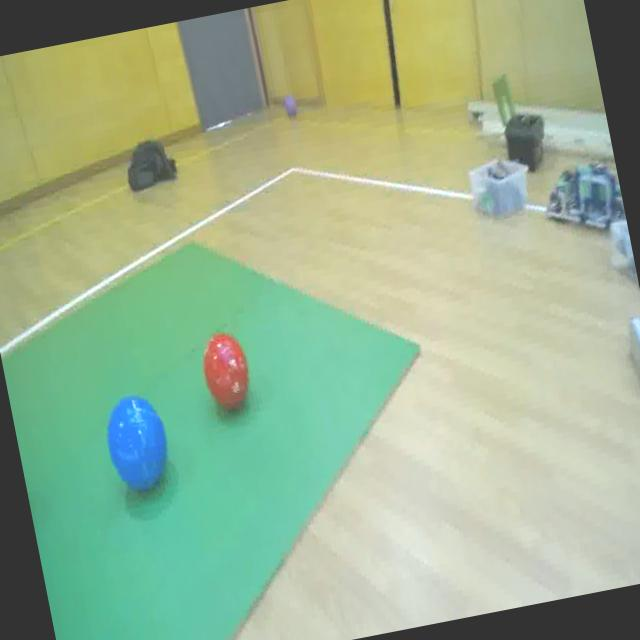blue_ball: (95, 384, 180, 504)
purple_ball: (280, 94, 302, 120)
red_ball: (196, 325, 258, 414)
